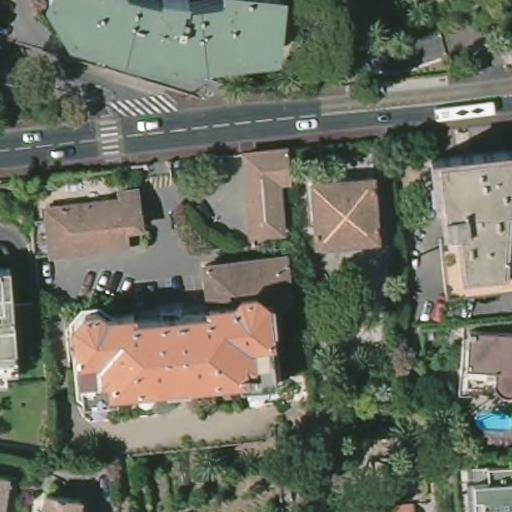pool: (474, 404, 511, 432)
